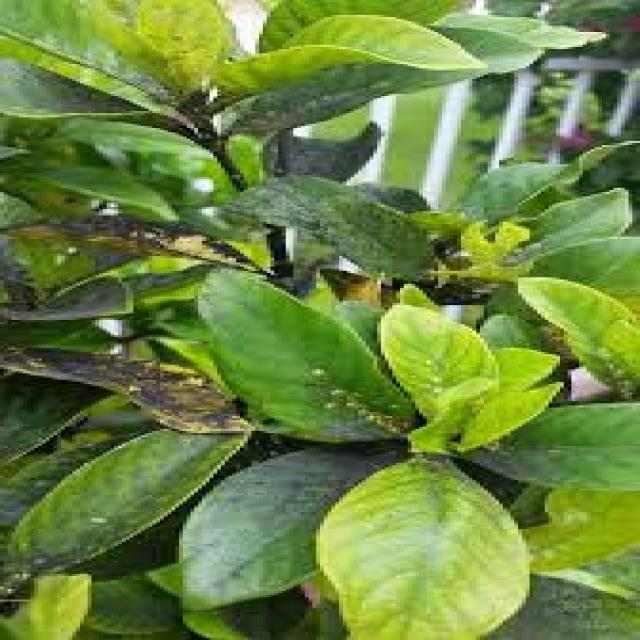scale_insect: (335, 394, 362, 410), (320, 382, 347, 397), (343, 403, 369, 418), (312, 396, 339, 409), (301, 362, 324, 376), (423, 384, 446, 397), (423, 369, 442, 384), (354, 408, 377, 420), (377, 399, 400, 410), (373, 418, 392, 429), (381, 422, 400, 433), (416, 354, 434, 365), (373, 410, 392, 420)
